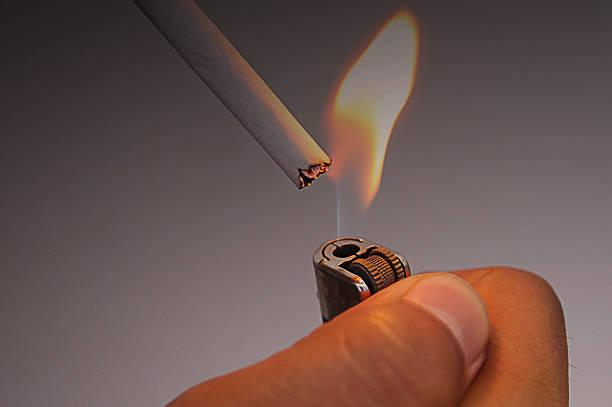Fire: (329, 9, 393, 237)
